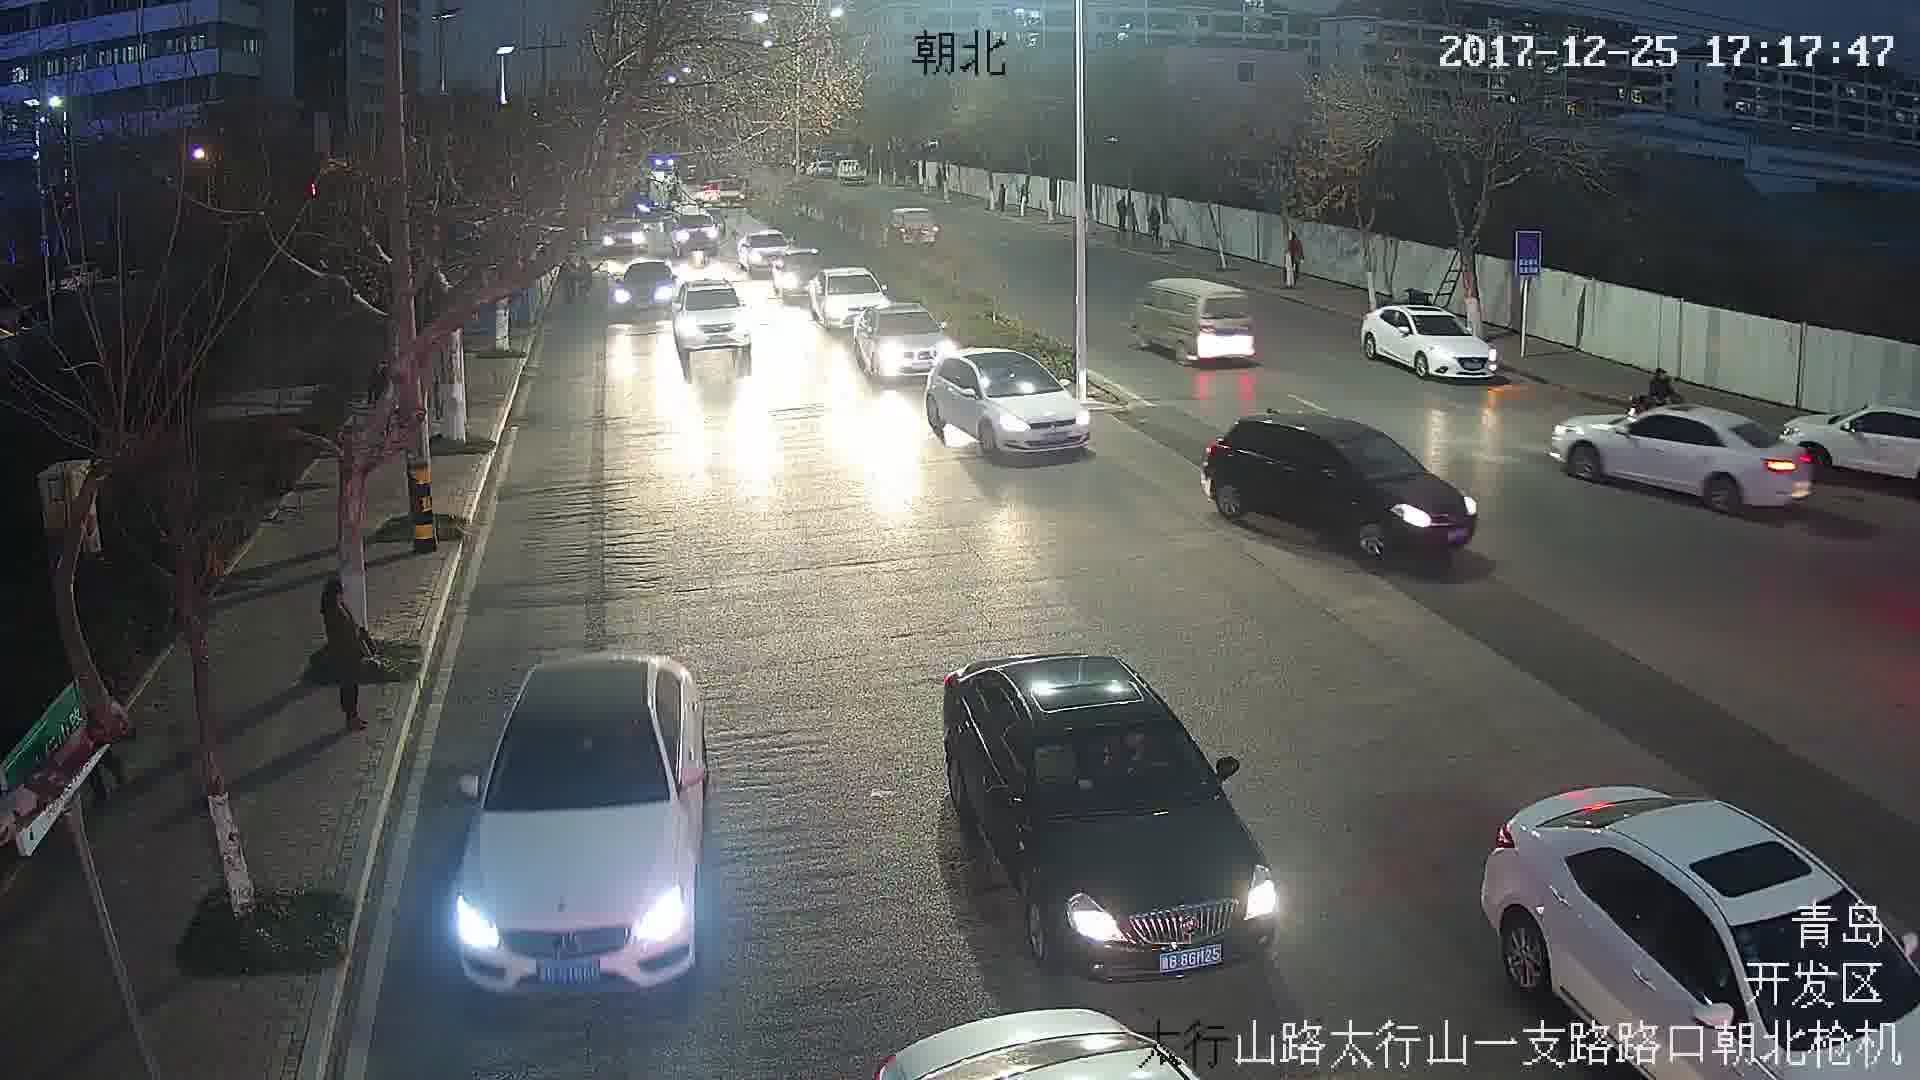car: (934, 662, 1274, 977), (449, 657, 709, 991), (1206, 398, 1487, 566), (1548, 406, 1816, 513), (928, 348, 1091, 455), (1363, 305, 1510, 387), (1124, 281, 1255, 370), (860, 303, 952, 380), (670, 277, 750, 363), (813, 269, 888, 328), (888, 209, 938, 252)
person: (309, 582, 368, 723)
